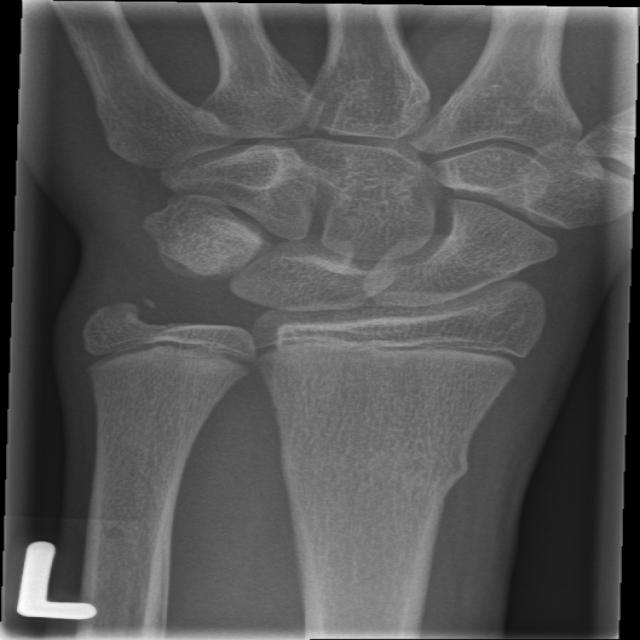radius fracture: (264, 388, 520, 558)
